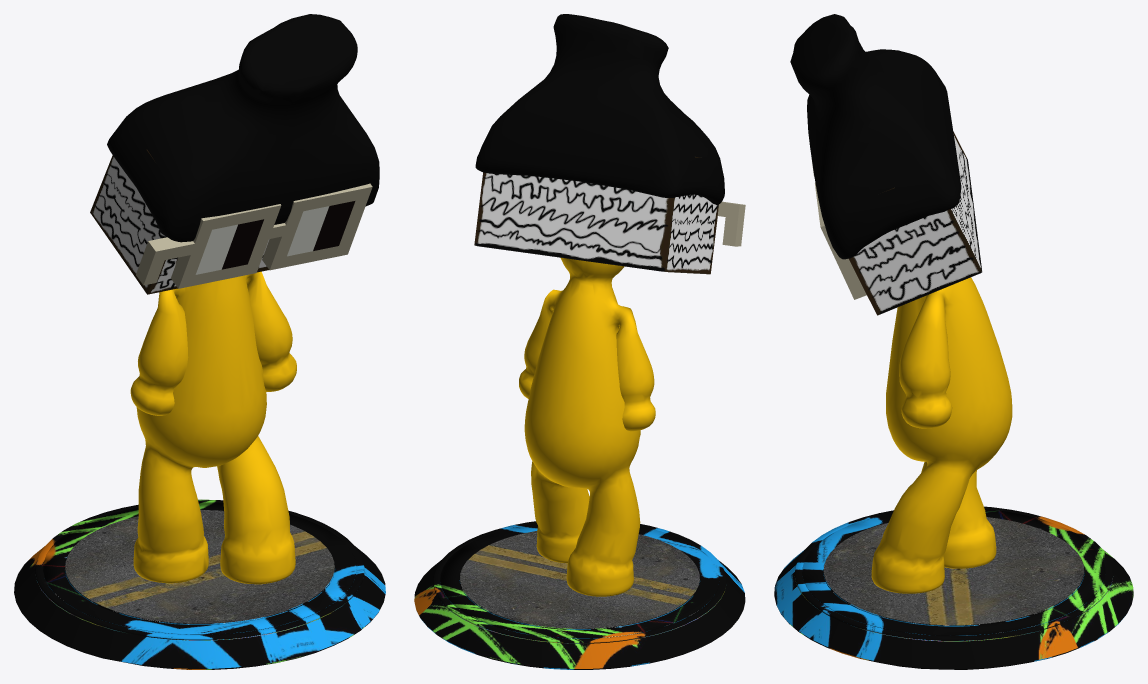
3 renders of one model, left to right at view 1: azimuth 30°, elevation 25°; view 2: azimuth 150°, elevation 25°; view 3: azimuth 270°, elevation 25°, orthographic. The views are drawn at different scales.
Parts seen in each view (by area): view 1: BBody; view 2: BBody; view 3: BBody.
Boxes of the visible parts, x1=… form: BBody: x1=14, y1=14, x2=385, y2=669; BBody: x1=414, y1=14, x2=745, y2=669; BBody: x1=774, y1=14, x2=1133, y2=669.
Bounding box in the file's own units: 1.45 × 2.59 × 1.45.
Materials: 6 (4 with a texture image).
